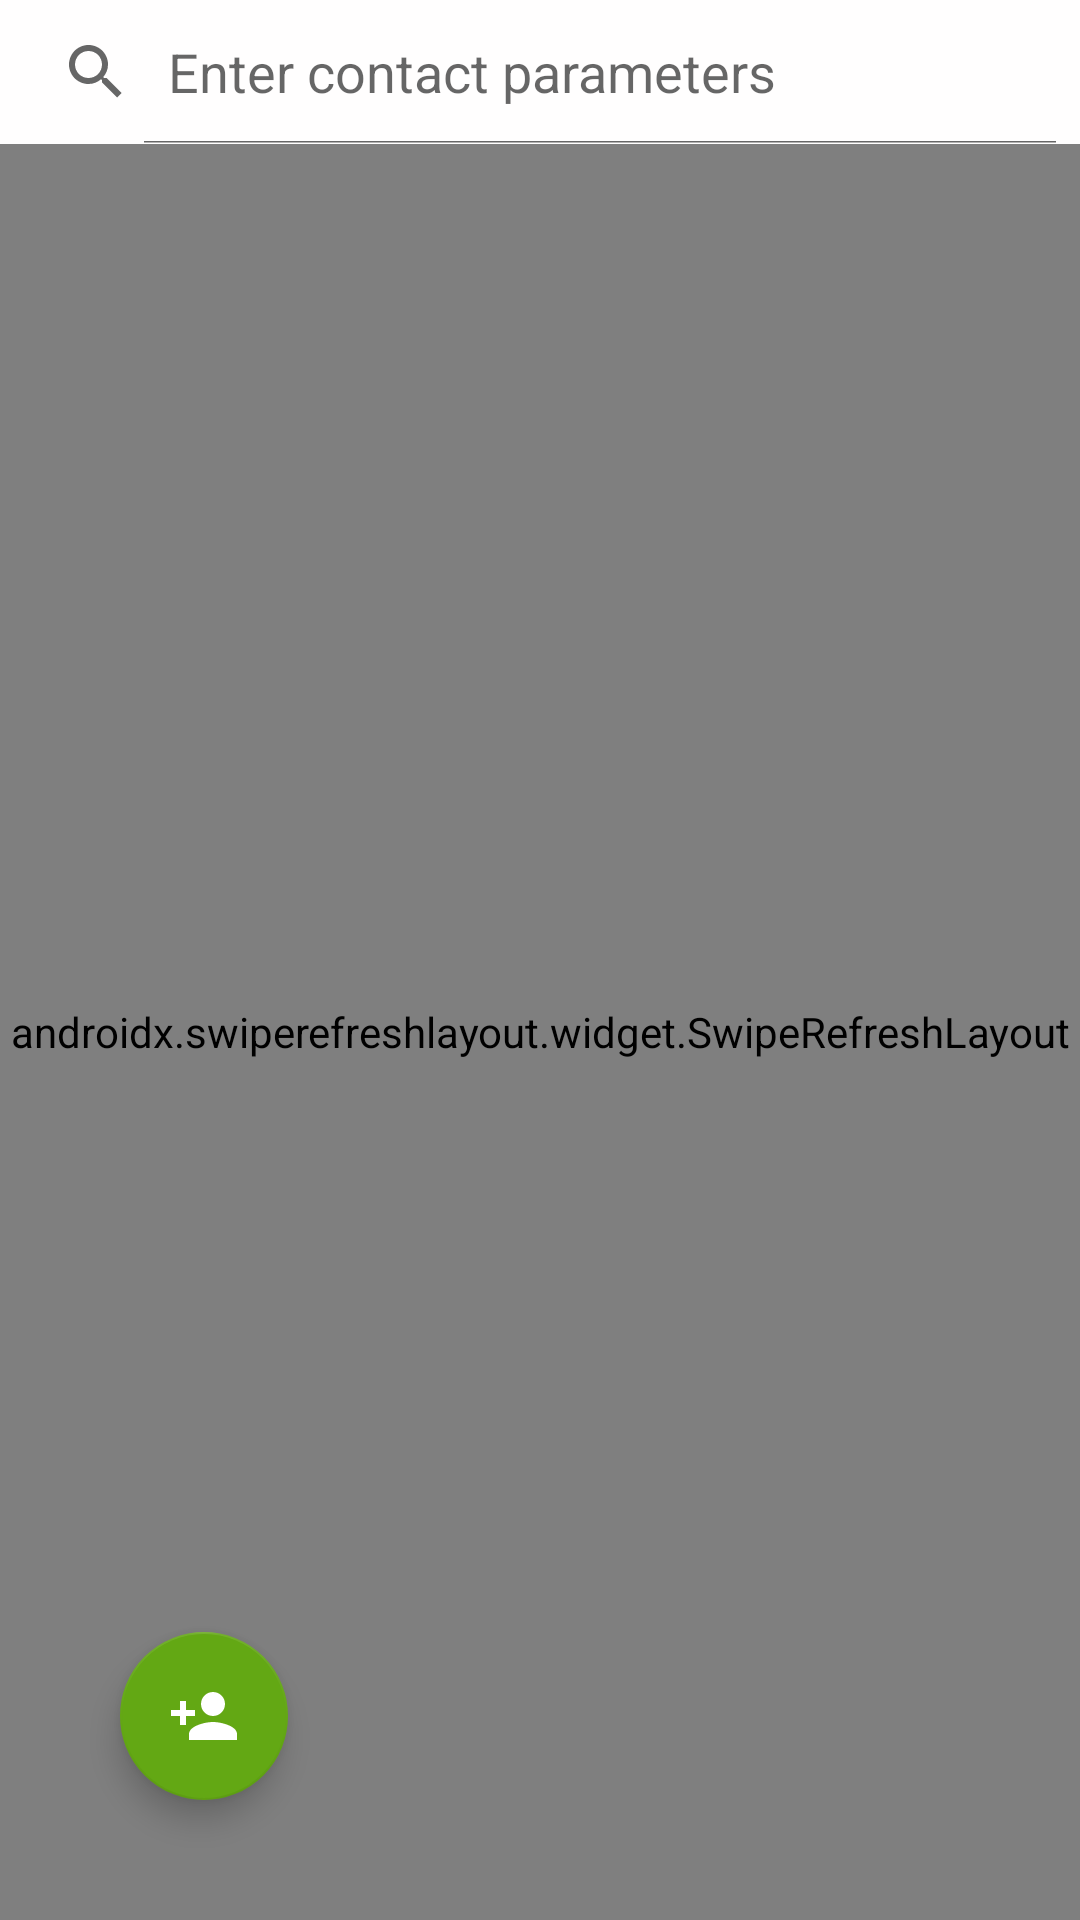

Icons on this 1080*1920 Android screen, each with its box as [x1,y1,x2,y2]:
person add: [120,1632,288,1800]
